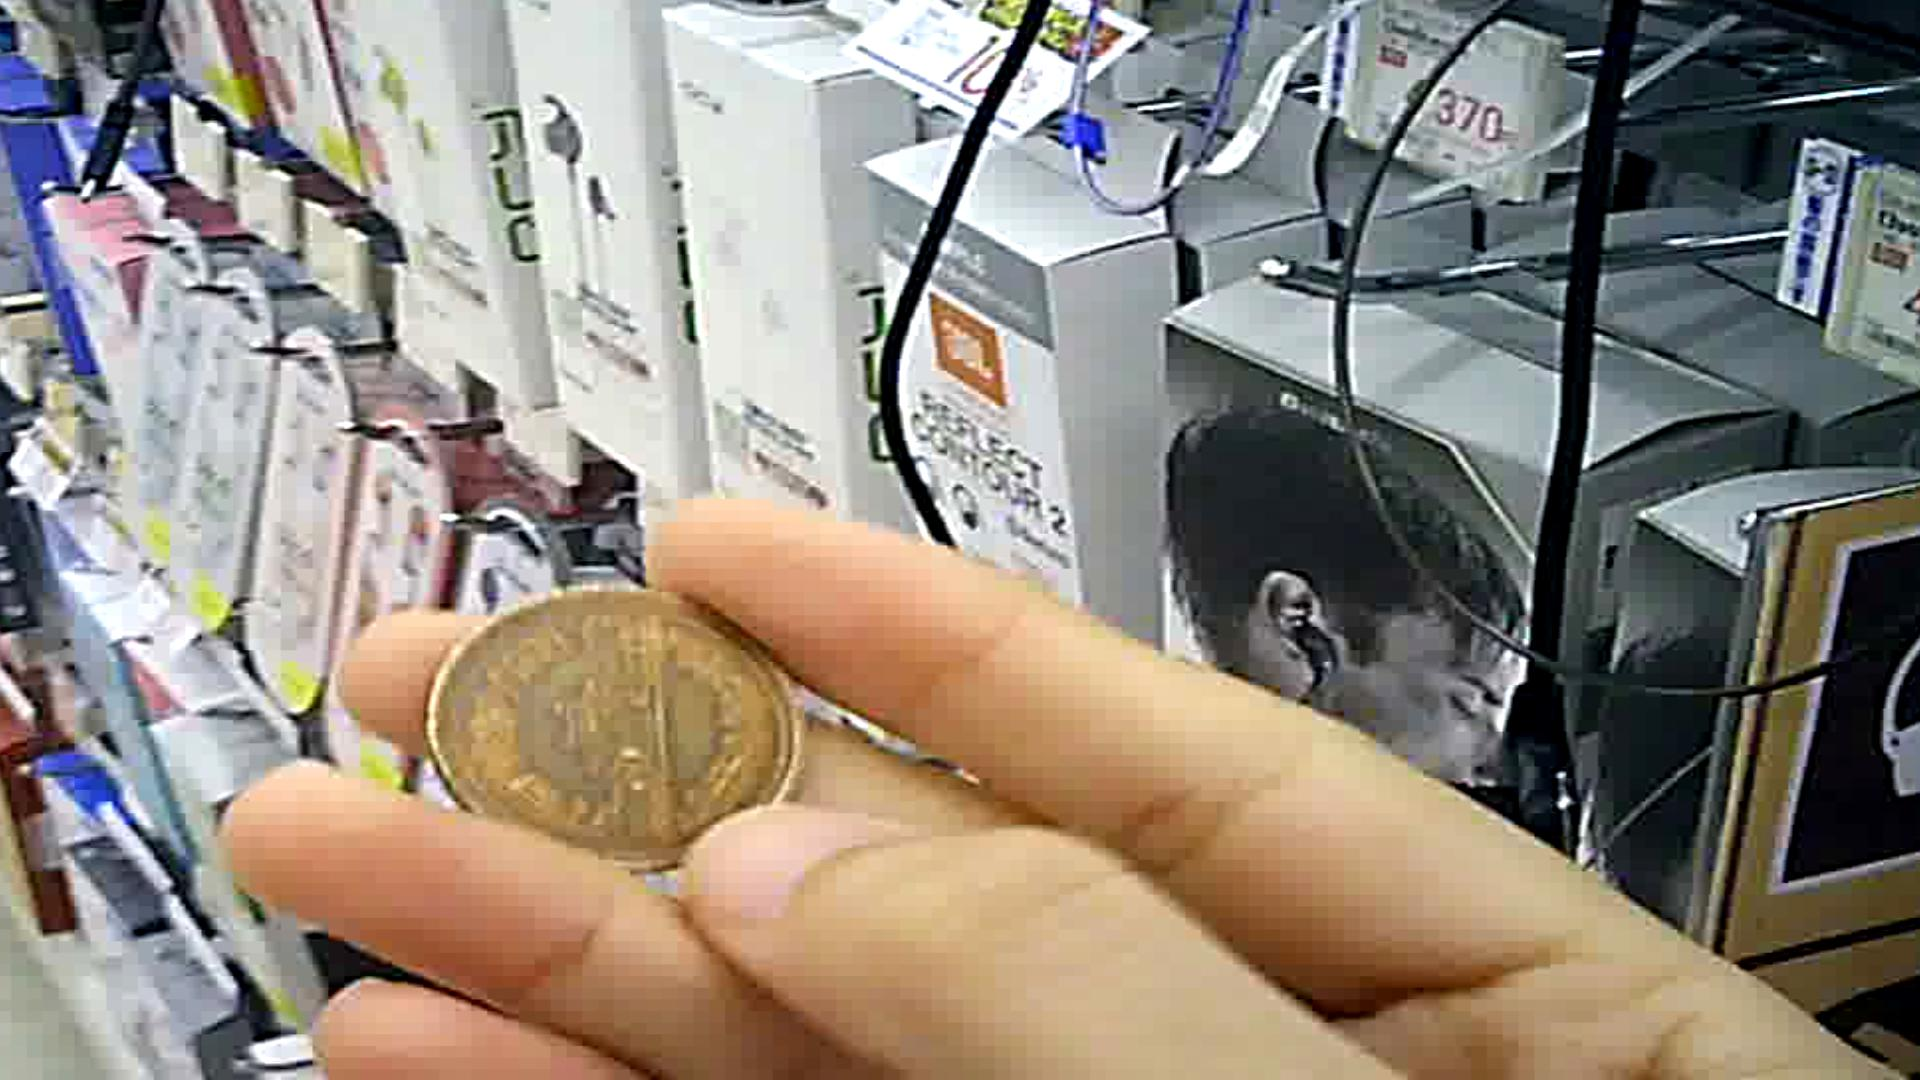10 Yen: (423, 564, 825, 885)
